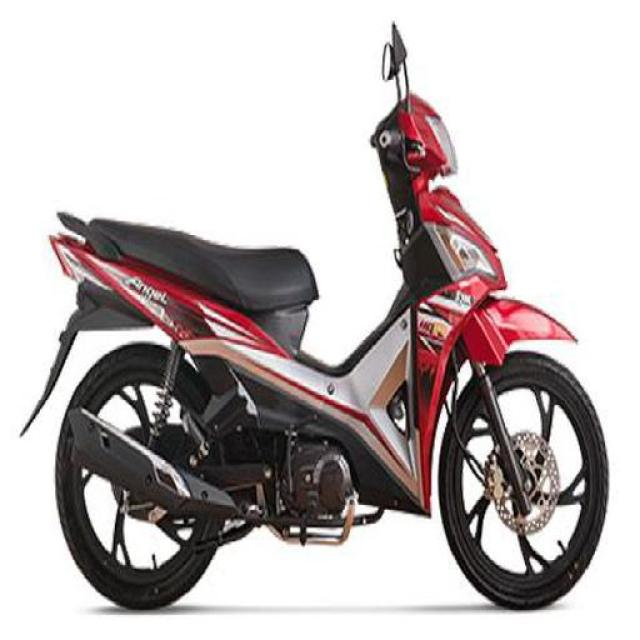All: (14, 84, 616, 614)
Head: (367, 92, 462, 184)
Tail: (42, 199, 135, 290)
